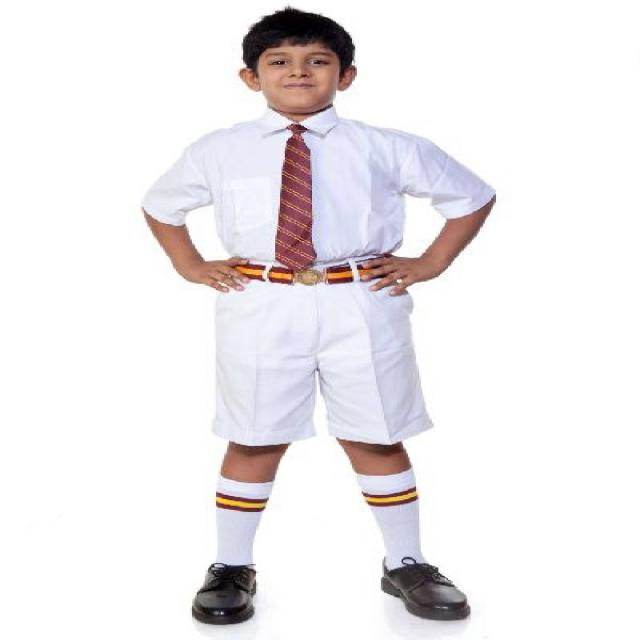child: (132, 6, 498, 634)
